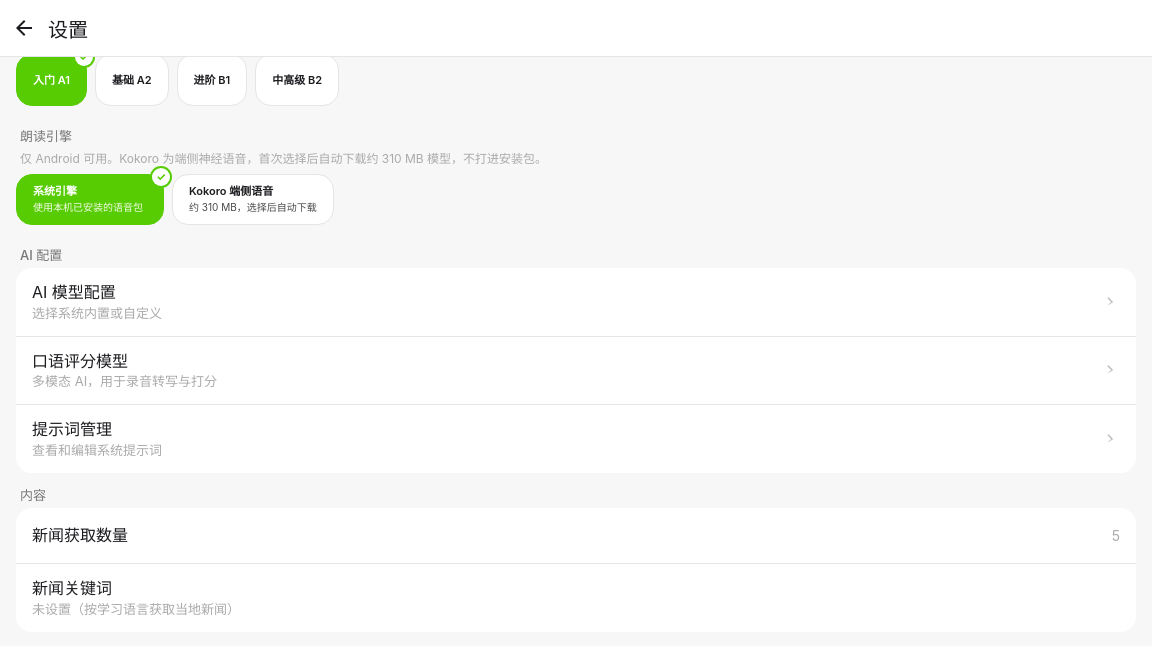
Test: SettingsPage › reverts to the system engine when Kokoro is unsupported
The image size is (1152, 646).
(page scrolled)
Click the button with class "tts-engine-pill" showing "Kokoro 端侧语音 约 310 MB，选择后自动下载" at coordinates (253, 200), box x1=172 y1=174 x2=334 y2=225
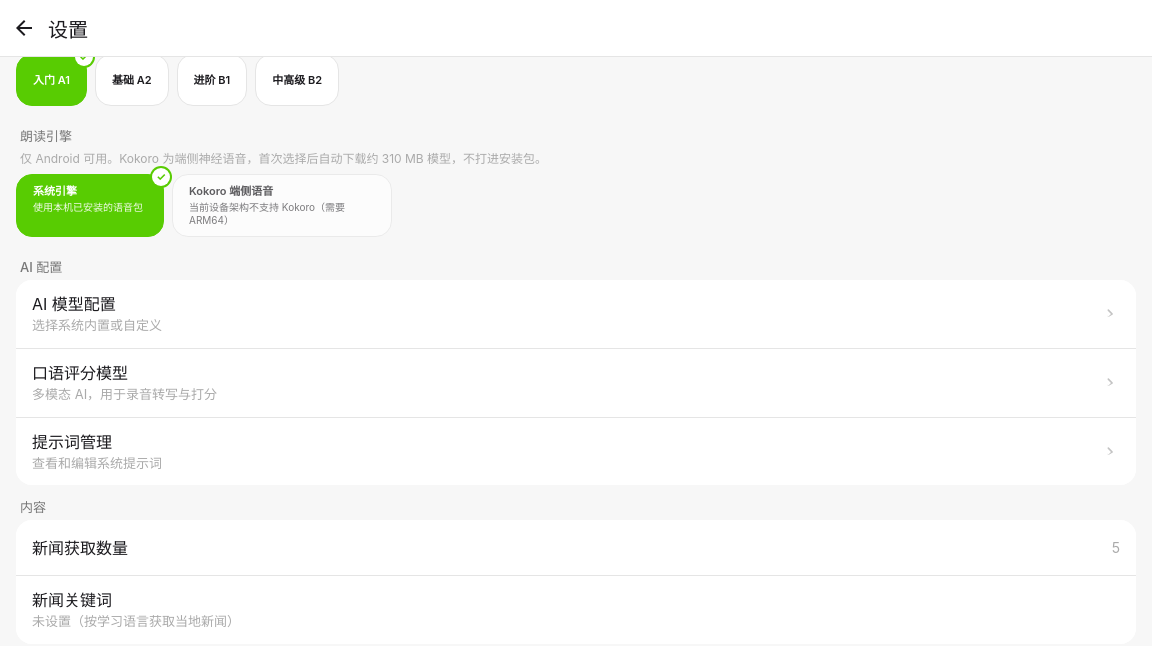
Now the text "当前设备架构不支持 Kokoro" is shown, box x1=189 y1=201 x2=345 y2=226
